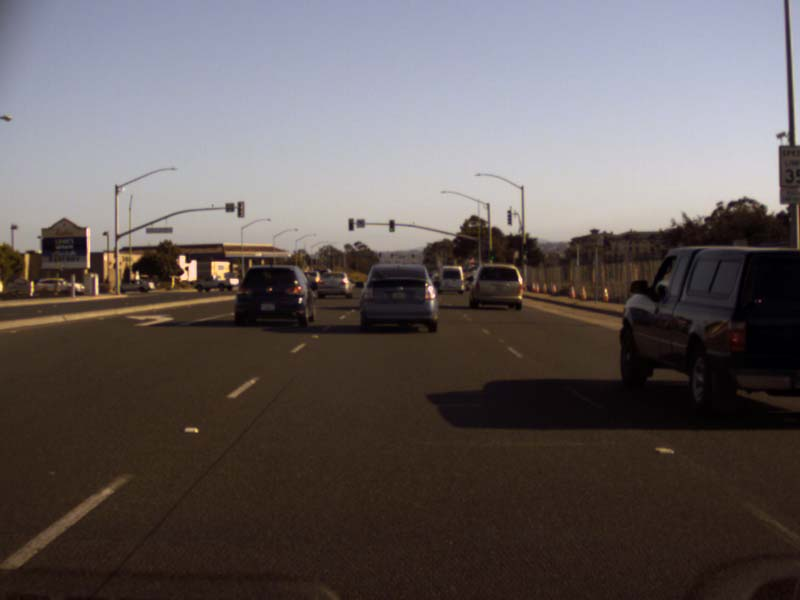Green: (389, 220, 394, 231), (490, 250, 494, 258)
